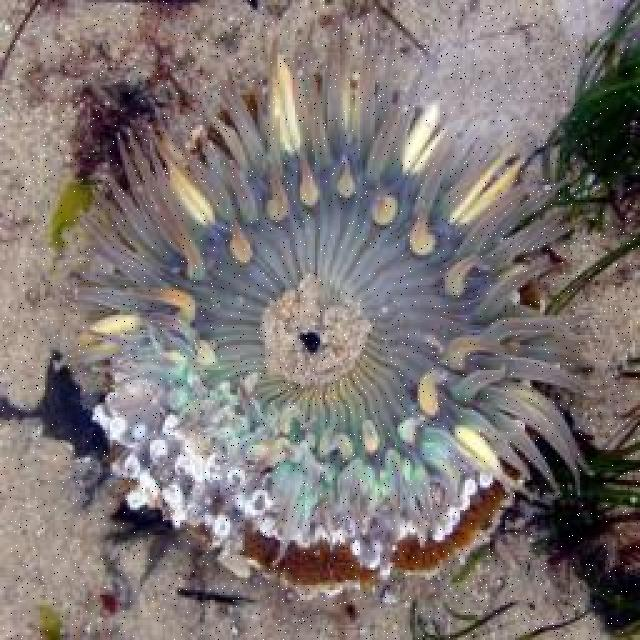reefs: (53, 13, 598, 605)
